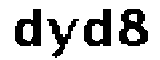8: (118, 5, 151, 50)
d: (81, 7, 116, 49), (10, 9, 44, 52)
y: (46, 16, 77, 60)
